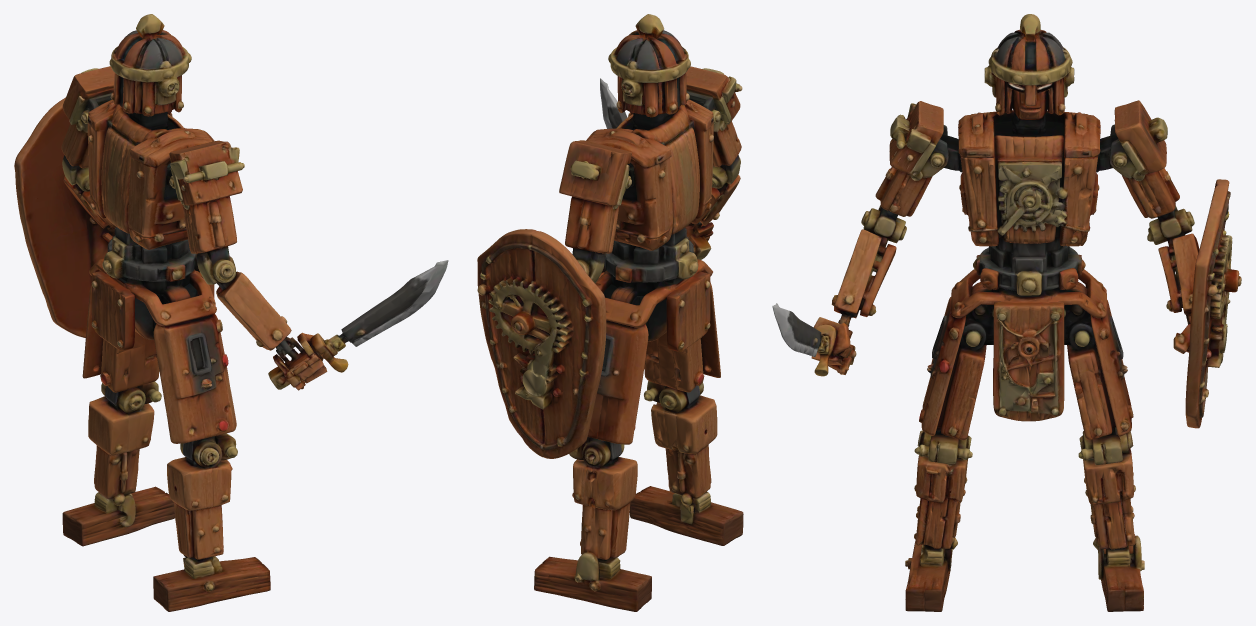
The model's file is s-puppet.glb.
3 renders of one model, left to right at view 1: azimuth 30°, elevation 25°; view 2: azimuth 150°, elevation 25°; view 3: azimuth 270°, elevation 25°, orthographic. The views are drawn at different scales.
Visible parts, largest first — view 1: tripo_node_e1f7c5c8-77d9-4183-9642-35434b5f8562; view 2: tripo_node_e1f7c5c8-77d9-4183-9642-35434b5f8562; view 3: tripo_node_e1f7c5c8-77d9-4183-9642-35434b5f8562.
Boxes of the visible parts, x1=… form: tripo_node_e1f7c5c8-77d9-4183-9642-35434b5f8562: x1=14, y1=14, x2=448, y2=611; tripo_node_e1f7c5c8-77d9-4183-9642-35434b5f8562: x1=477, y1=14, x2=743, y2=611; tripo_node_e1f7c5c8-77d9-4183-9642-35434b5f8562: x1=772, y1=14, x2=1241, y2=611.
Size of the model in its own units: 0.4123 by 0.9801 by 0.7335.
1 material, 1 textured.
